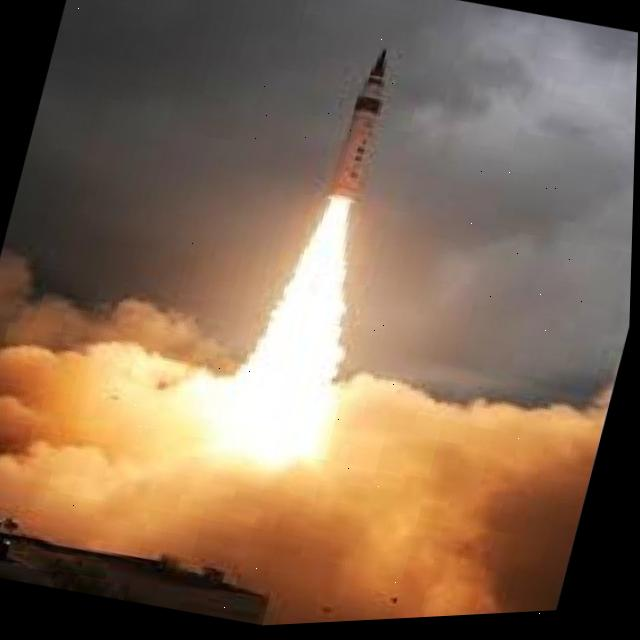missile: (318, 46, 402, 210)
